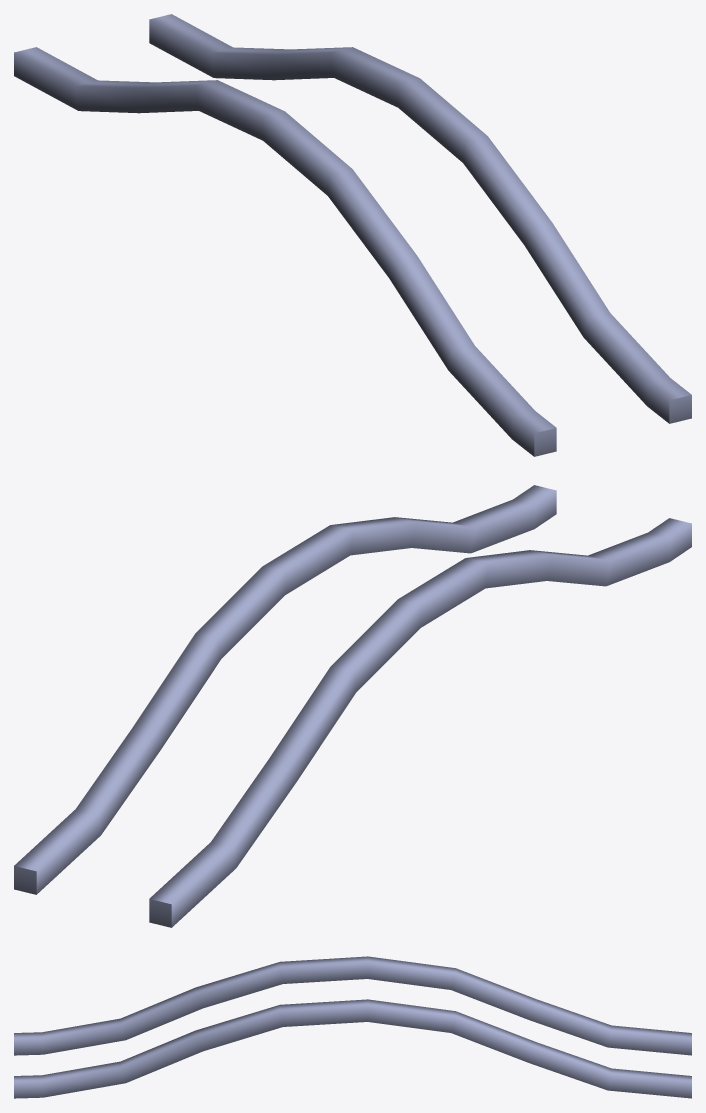
Rendered from railroad-rail-straight-bump-up.glb.
3 views of the same model, one above another, from view 1: azimuth 30°, elevation 25°; view 2: azimuth 150°, elevation 25°; view 3: azimuth 270°, elevation 25° (orthographic). The views are drawn at different scales.
Parts seen in each view (by area): view 1: railroad-rail-straight-bump-up; view 2: railroad-rail-straight-bump-up; view 3: railroad-rail-straight-bump-up.
Part boxes in pixels (x1,y1,x2,y2): railroad-rail-straight-bump-up: [14, 14, 691, 456]; railroad-rail-straight-bump-up: [14, 485, 691, 927]; railroad-rail-straight-bump-up: [14, 956, 691, 1098].
Size of the model in its own units: 0.7 by 0.5987 by 4.
